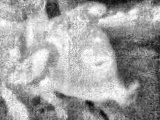eye: (92, 57, 107, 72)
